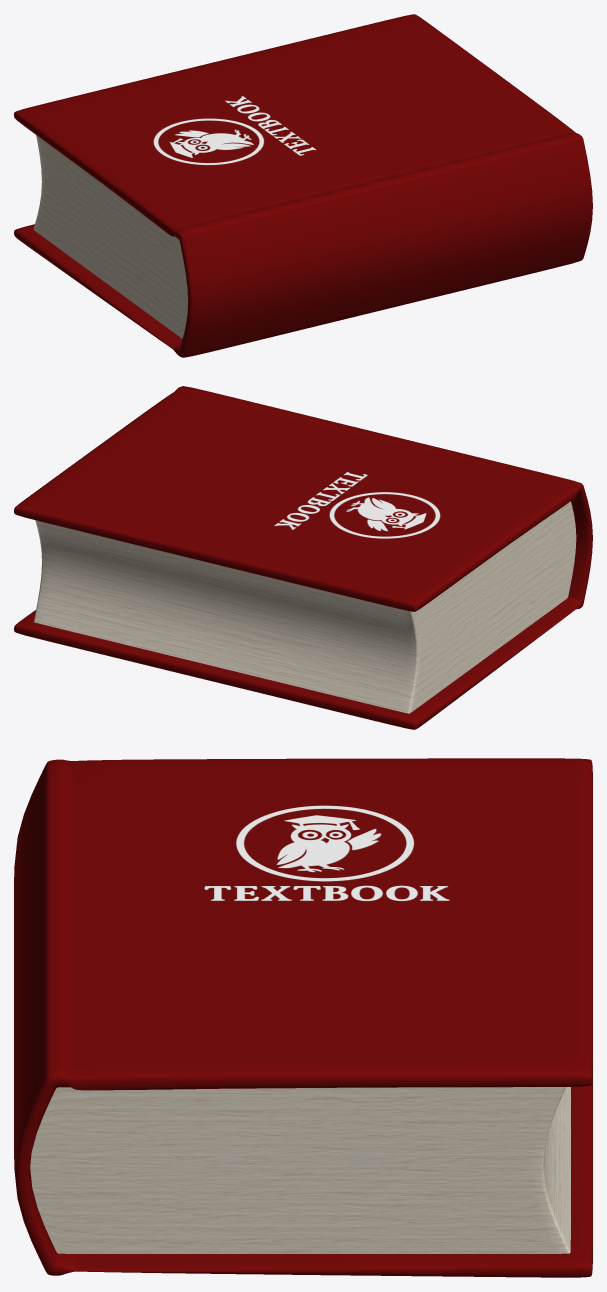
The model's file is Book_2.0.glb.
3 renders of one model, top to bottom at view 1: azimuth 30°, elevation 25°; view 2: azimuth 150°, elevation 25°; view 3: azimuth 270°, elevation 25°, orthographic. The views are drawn at different scales.
Visible parts, largest first — view 1: Cube, Cube.001, textbook_logo; view 2: Cube, Cube.001, textbook_logo; view 3: Cube, Cube.001, textbook_logo.
Boxes of the visible parts, x1,y1,x2,y2 form: Cube: (14,14,592,357); Cube.001: (33,135,187,338); textbook_logo: (153,96,316,164); Cube: (14,386,592,729); Cube.001: (33,501,576,713); textbook_logo: (274,472,440,538); Cube: (14,758,592,1277); Cube.001: (30,1087,570,1253); textbook_logo: (204,805,449,901).
Size of the model in its own units: 2 by 0.6103 by 1.53.
Materials: 3 (2 with a texture image).
